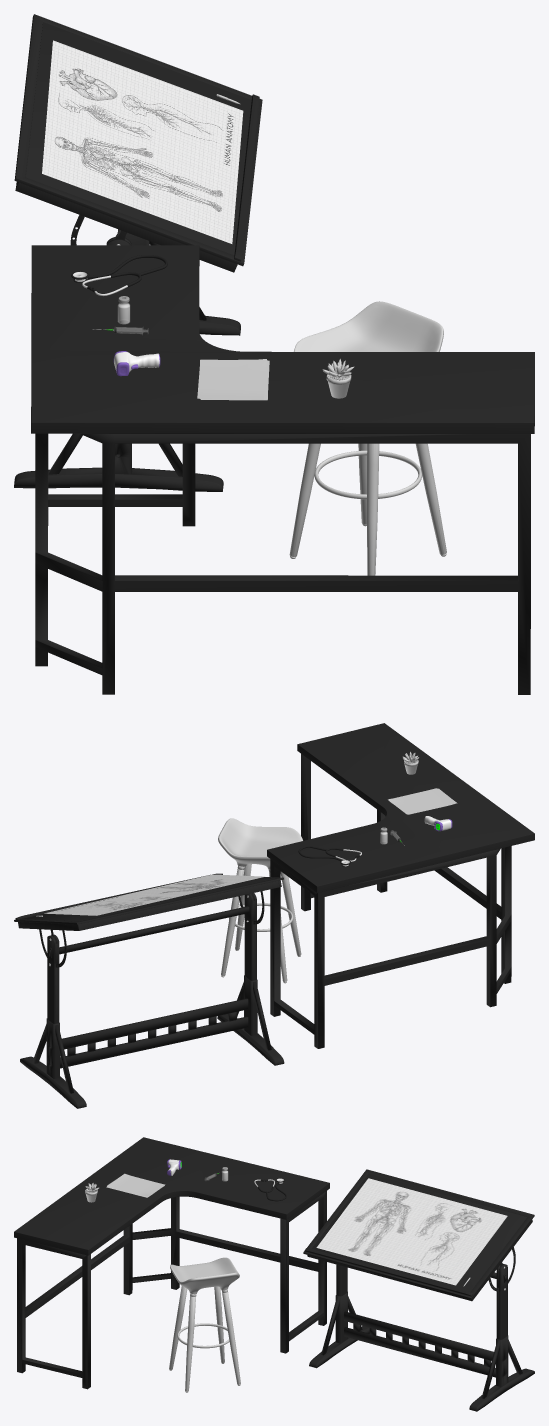
Rendered from StudyRoom.gltf.
3 views of the same model, one above another, from view 1: azimuth 30°, elevation 25°; view 2: azimuth 150°, elevation 25°; view 3: azimuth 270°, elevation 25° (orthographic). The views are drawn at different scales.
Parts seen in each view (by area): view 1: Board.001, Board, Board.002, Desk Elements, Cylinder.009_Metal.002_0, Cube.003; view 2: Board.001, Board.002, Board, Desk Elements; view 3: Board.001, Board, Board.002, Desk Elements.
Boxes of the visible parts, bbox=[...] form: Board.001: bbox=[14, 14, 534, 694]; Board: bbox=[42, 40, 243, 243]; Board.002: bbox=[117, 94, 446, 575]; Desk Elements: bbox=[197, 358, 354, 400]; Cylinder.009_Metal.002_0: bbox=[71, 255, 167, 295]; Cube.003: bbox=[113, 351, 160, 376]; Board.001: bbox=[14, 723, 534, 1108]; Board.002: bbox=[36, 818, 302, 983]; Board: bbox=[44, 874, 264, 915]; Desk Elements: bbox=[388, 751, 457, 814]; Board.001: bbox=[14, 1137, 534, 1411]; Board: bbox=[316, 1178, 507, 1285]; Board.002: bbox=[169, 1257, 505, 1392]; Desk Elements: bbox=[85, 1173, 165, 1202].
Size of the model in its own units: 3.75 by 2.03 by 6.
Materials: 17 (4 with a texture image).
